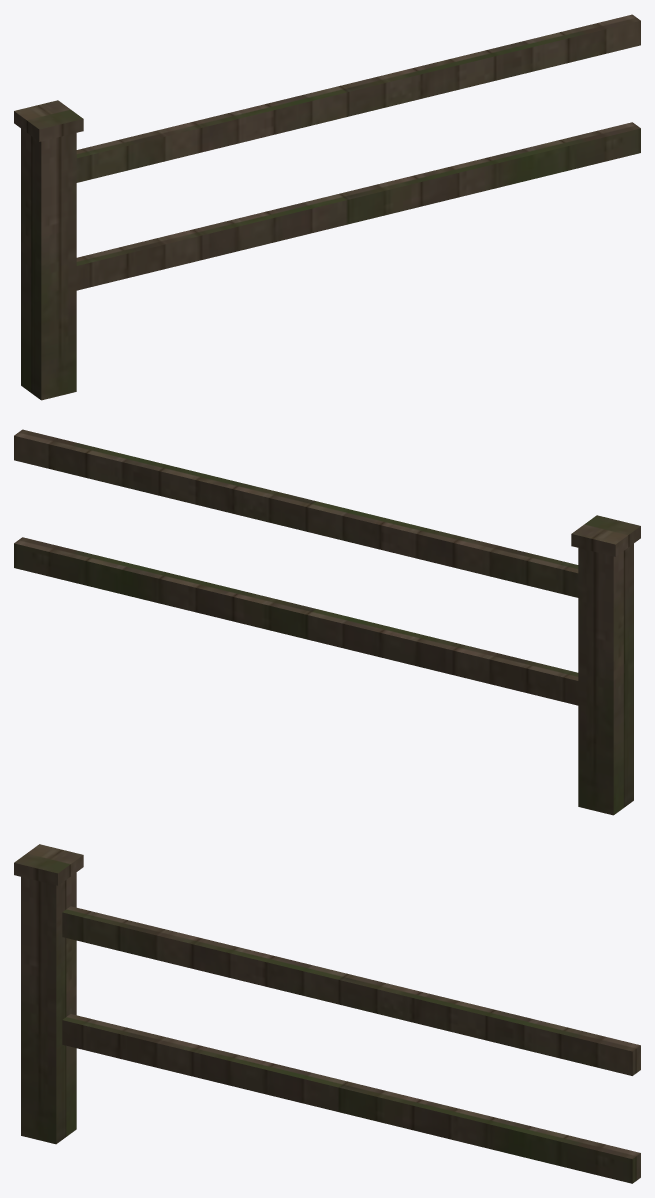
File: prp_plotfence_module_a_LOD1.glb
3 views of the same model, one above another, from view 1: azimuth 30°, elevation 25°; view 2: azimuth 150°, elevation 25°; view 3: azimuth 330°, elevation 25° (orthographic).
Parts seen in each view (by area): view 1: prp_plotfence_module_a_wood; view 2: prp_plotfence_module_a_wood; view 3: prp_plotfence_module_a_wood.
Boxes of the visible parts, x1,y1,x2,y2 form: prp_plotfence_module_a_wood: (14, 14, 640, 400); prp_plotfence_module_a_wood: (14, 429, 640, 815); prp_plotfence_module_a_wood: (14, 844, 640, 1183).
Size of the model in its own units: 2.08 by 0.89 by 0.15.
Materials: 1 (1 with a texture image).
